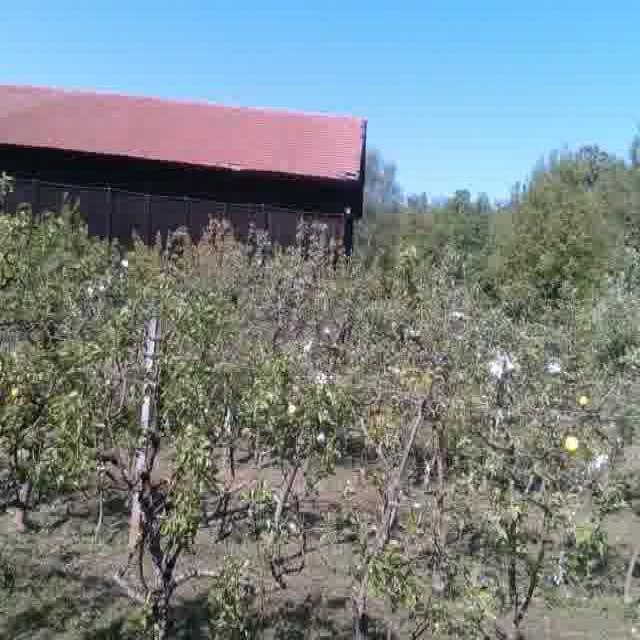yellow: (564, 433, 580, 452), (577, 394, 590, 408)
